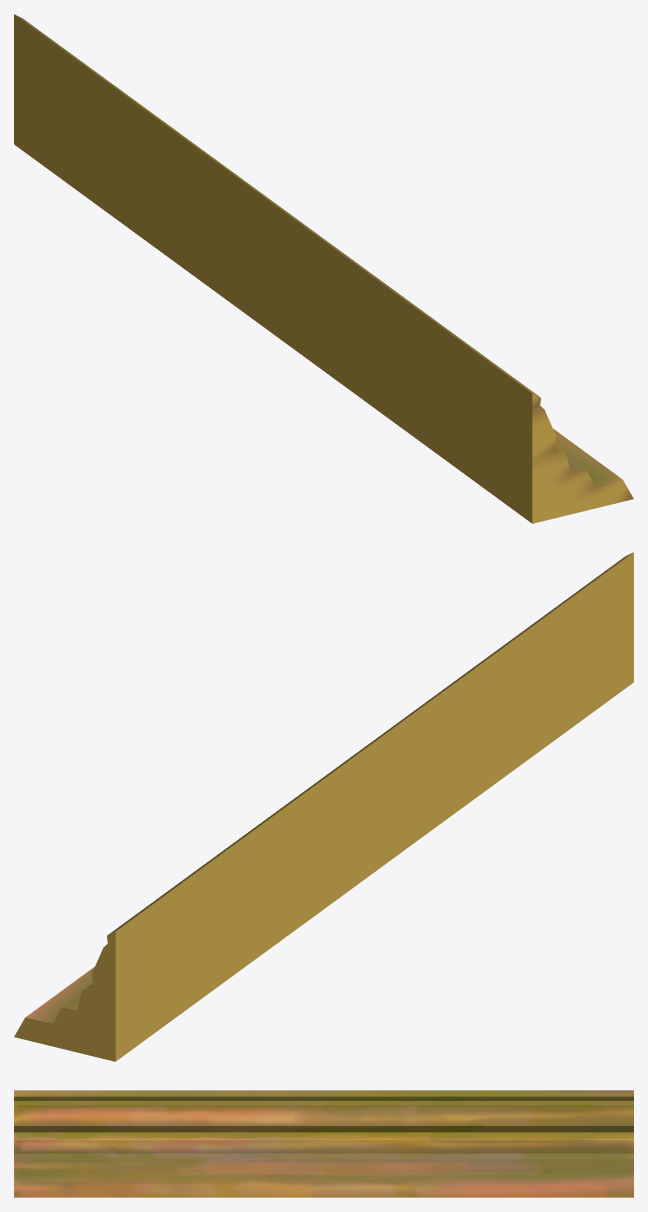
File: supurgelik.fbx
The picture shows the model from 3 angles, top to bottom: view 1: azimuth 30°, elevation 25°; view 2: azimuth 150°, elevation 25°; view 3: azimuth 270°, elevation 25°; orthographic projection. The views are drawn at different scales.
Parts seen in each view (by area): view 1: Cube; view 2: Cube; view 3: Cube.
Part boxes in pixels (x1,y1,x2,y2): Cube: [14, 14, 633, 523]; Cube: [14, 552, 633, 1061]; Cube: [14, 1090, 633, 1197].
Size of the model in its own units: 40.43 by 49.55 by 358.
